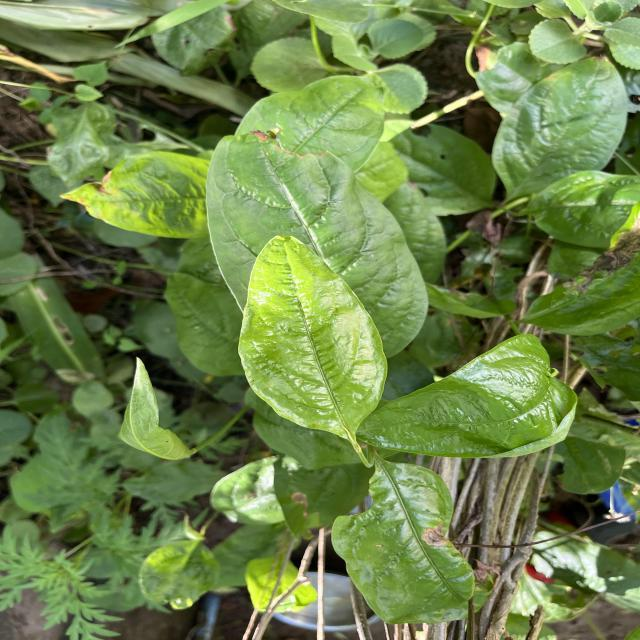Plumbago indica: (232, 234, 391, 442), (361, 330, 581, 460), (326, 457, 474, 629), (488, 52, 630, 198)
